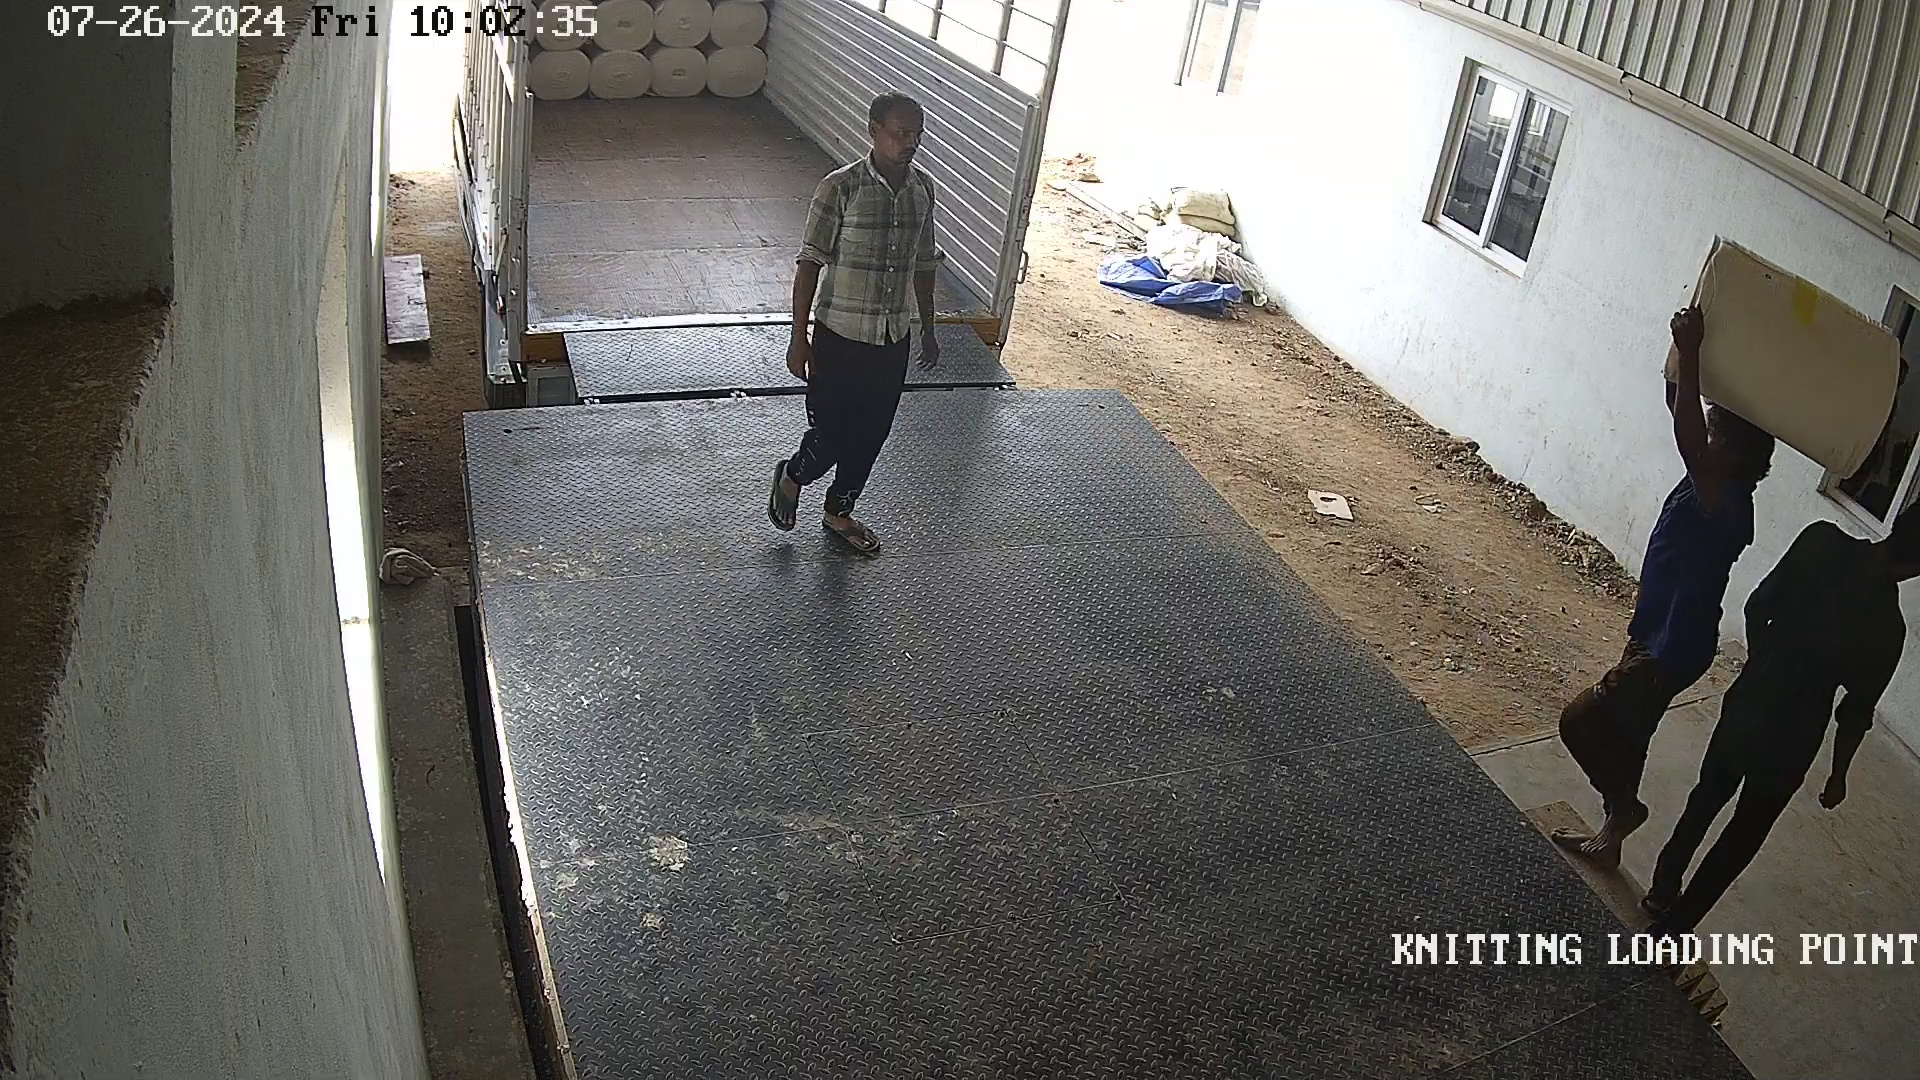bag: (1662, 222, 1902, 483)
